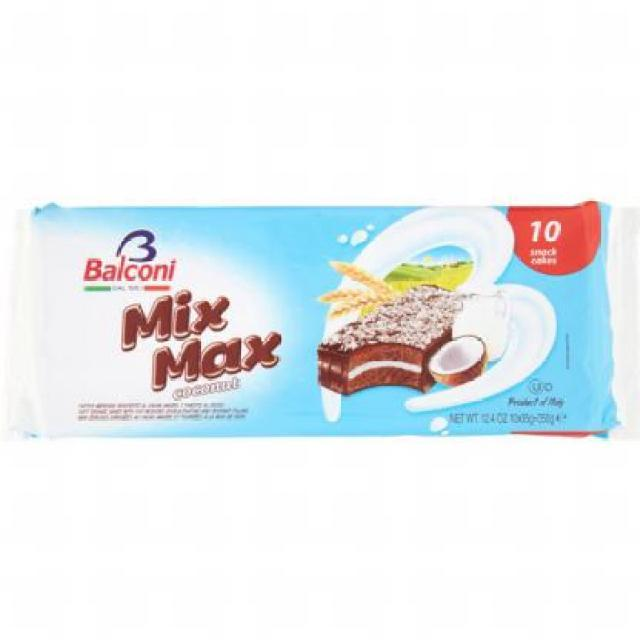Merendine: (8, 202, 634, 446)
